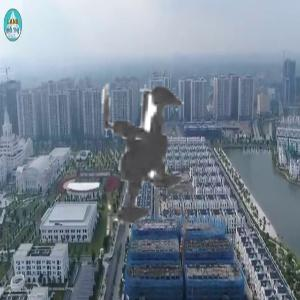drone: (18, 15, 296, 293)
